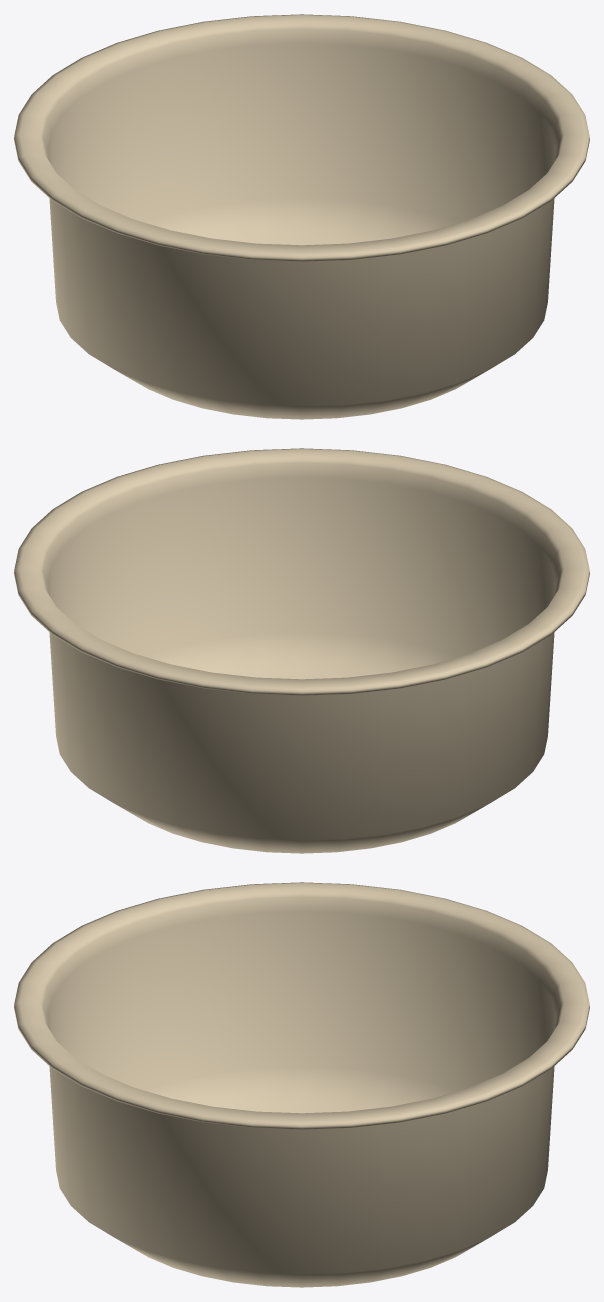
File: a_sink_round_2.glb
The picture shows the model from 3 angles, top to bottom: view 1: azimuth 30°, elevation 25°; view 2: azimuth 150°, elevation 25°; view 3: azimuth 270°, elevation 25°; orthographic projection.
Parts seen in each view (by area): view 1: o; view 2: o; view 3: o.
Part boxes in pixels (x1,y1,x2,y2): o: [14, 14, 589, 419]; o: [14, 448, 589, 853]; o: [14, 882, 589, 1287].
Bounding box in the file's own units: 0.4824 × 0.1912 × 0.4824.
